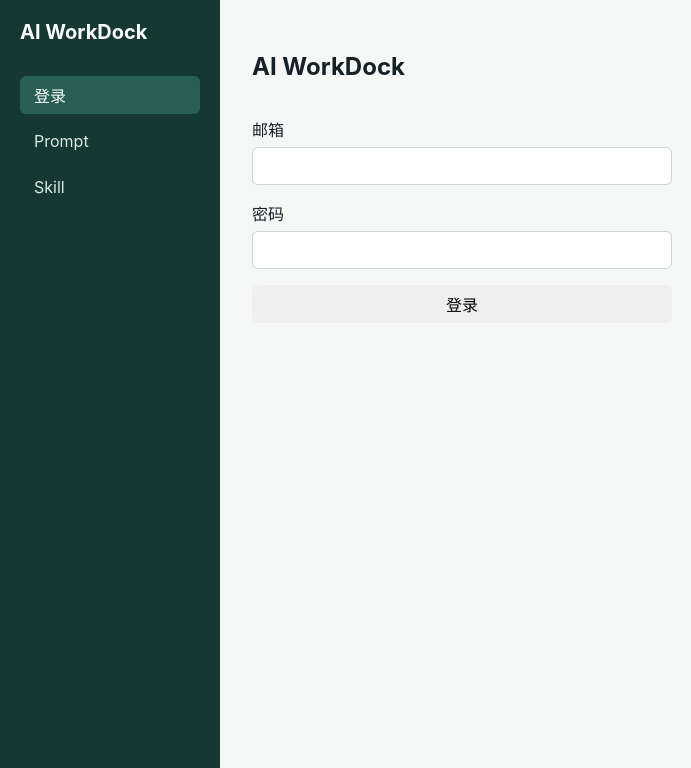
Test case: AI WorkDock admin web › shows a login error
This screenshot has width=691, height=768.
Click the button "登录" below "密码". click: (462, 304)
box: [252,285,672,323]
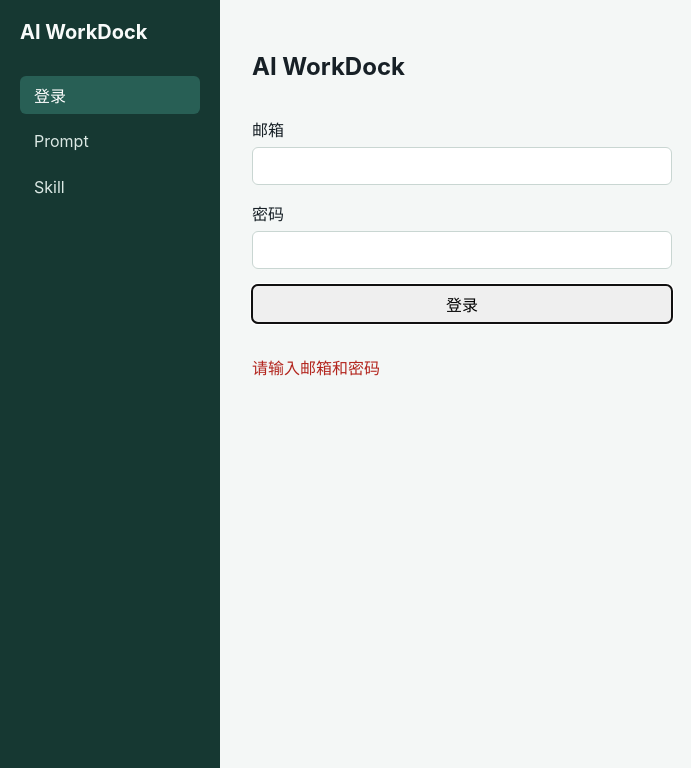
Expected: the text "请输入邮箱和密码" is shown, [252,358,380,378]
